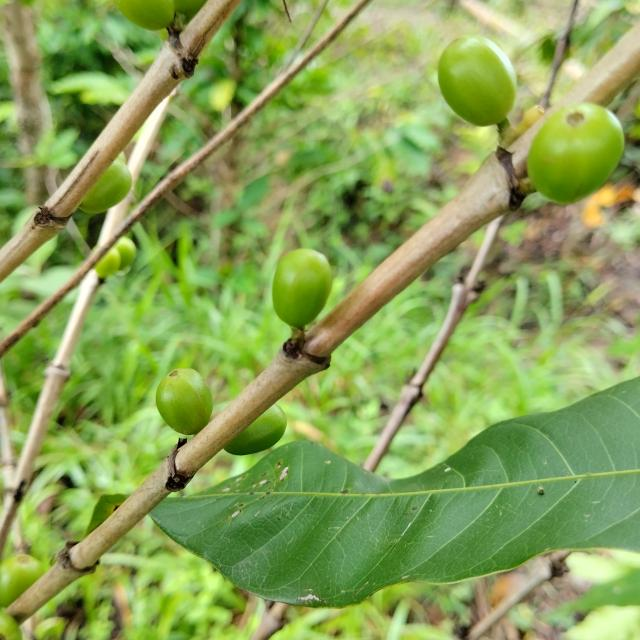green: (529, 102, 625, 204), (439, 35, 517, 125), (273, 248, 332, 328), (156, 369, 212, 435), (224, 405, 287, 456)
